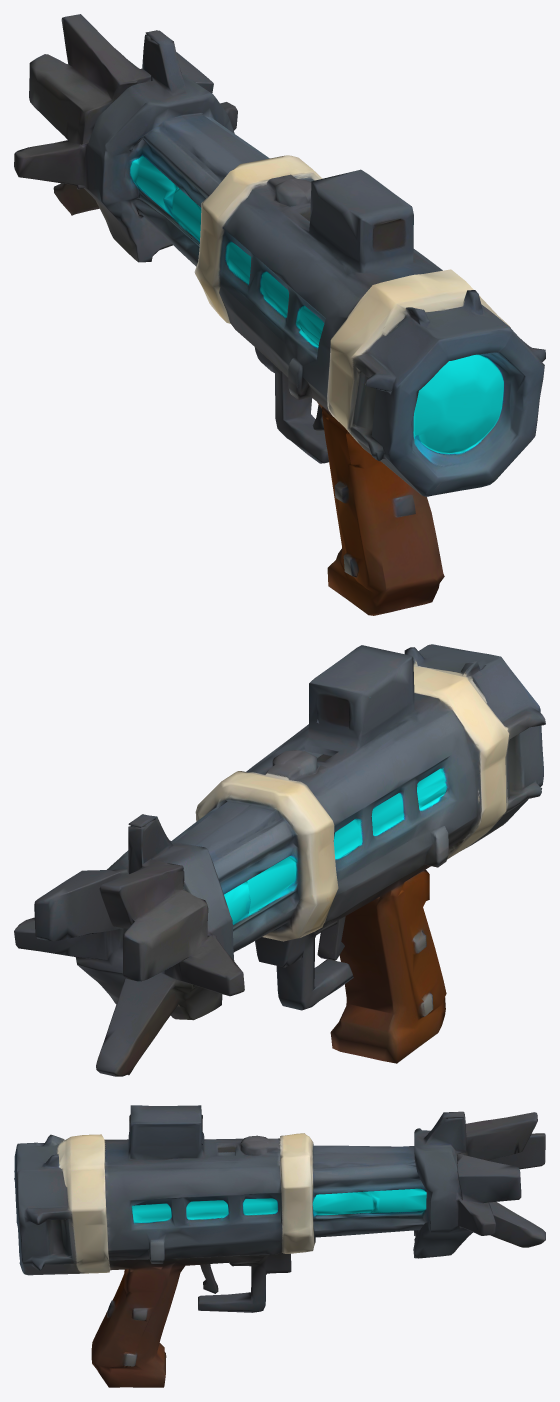
The model's file is comet.fbx.
The picture shows the model from 3 angles, top to bottom: view 1: azimuth 30°, elevation 25°; view 2: azimuth 150°, elevation 25°; view 3: azimuth 270°, elevation 25°; orthographic projection. The views are drawn at different scales.
Visible parts, largest first — view 1: tripo_node_a122fddd; view 2: tripo_node_a122fddd; view 3: tripo_node_a122fddd.
Part boxes in pixels (x1,y1,x2,y2): tripo_node_a122fddd: (14, 14, 545, 615); tripo_node_a122fddd: (14, 644, 545, 1076); tripo_node_a122fddd: (14, 1105, 545, 1387).
Size of the model in its own units: 0.3233 by 0.5443 by 0.9807.
